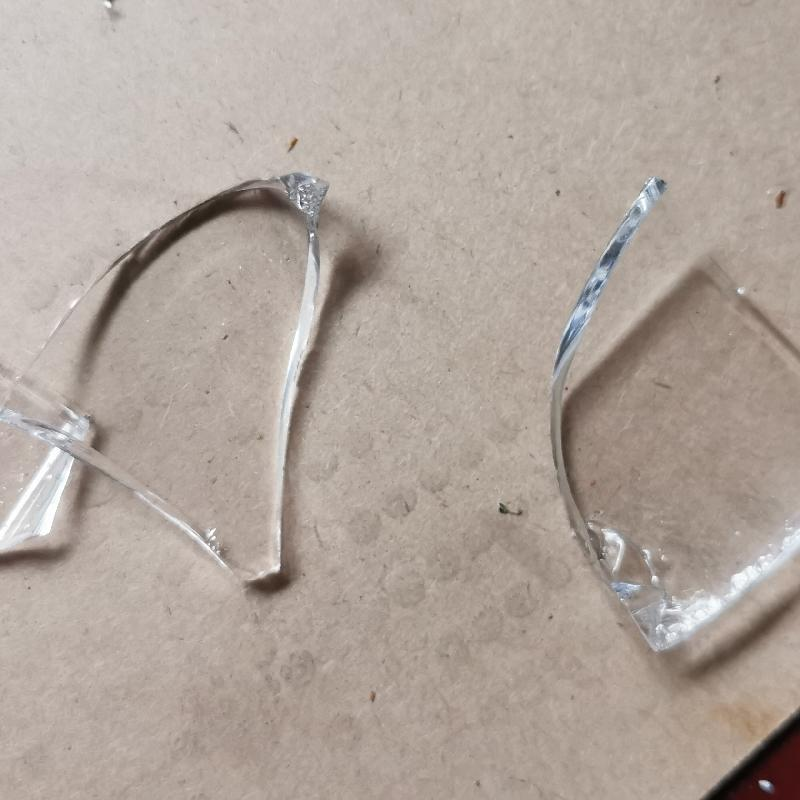glass: (527, 175, 800, 657), (30, 175, 325, 596)
